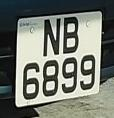6: (20, 61, 41, 103)
8: (41, 56, 61, 102)
9: (77, 52, 99, 93), (60, 55, 80, 96)
B: (61, 12, 81, 58)
N: (40, 16, 63, 60)
